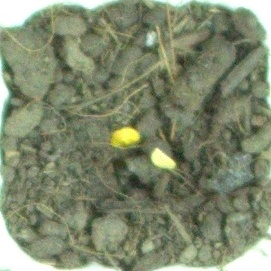pepper seed: (58, 58, 238, 230), (36, 51, 179, 202)
